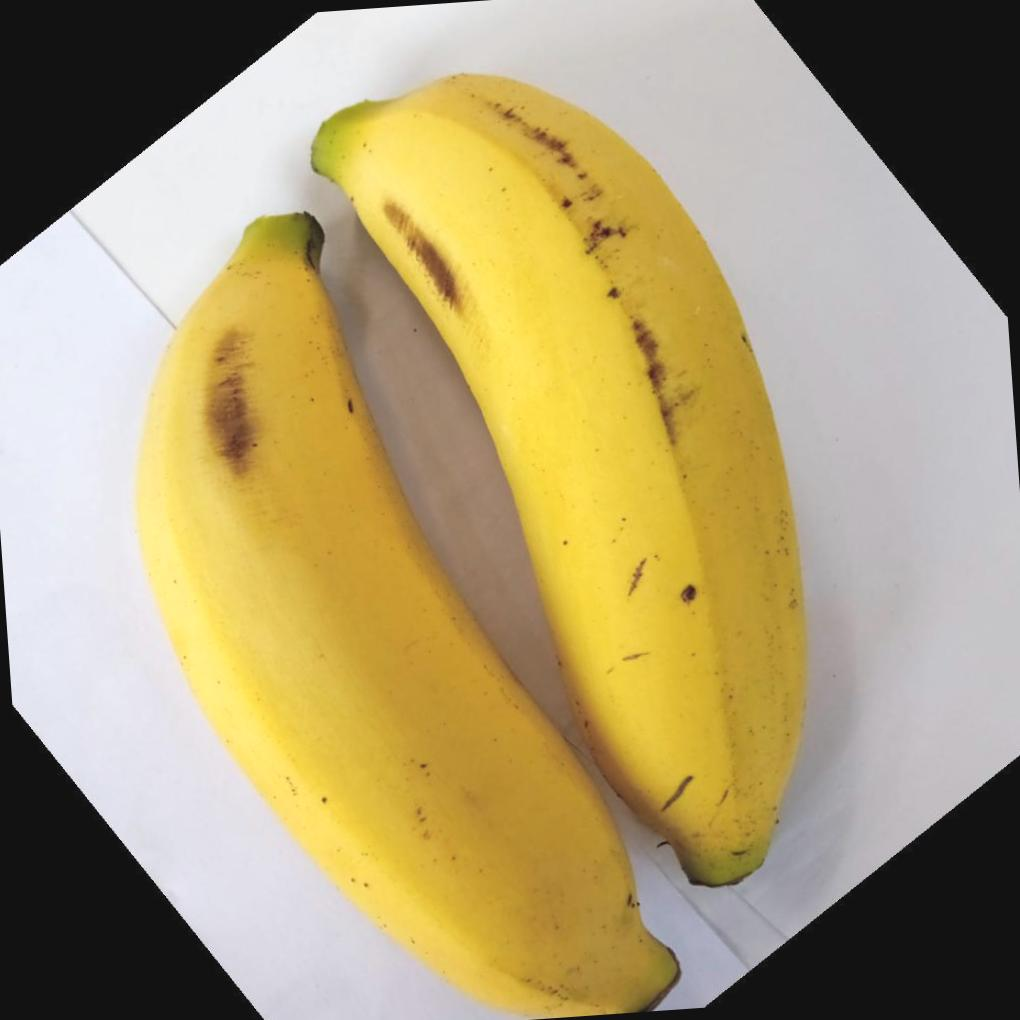Banana Ripe: (114, 172, 709, 1020), (309, 43, 878, 917)
